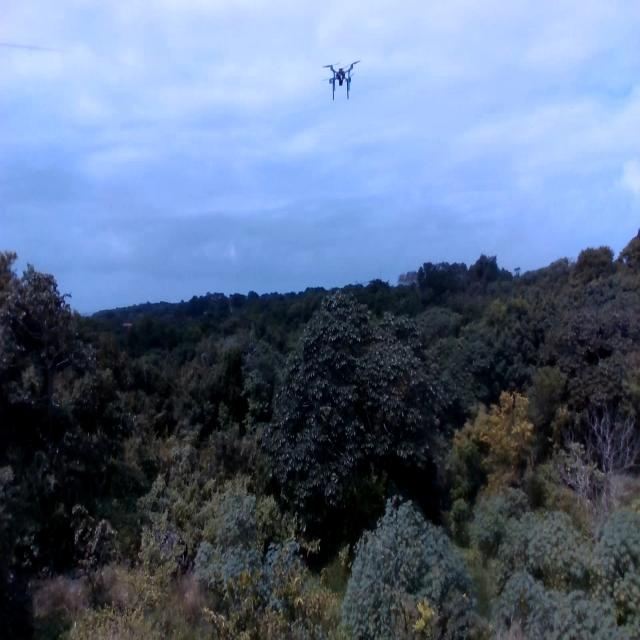-uav-: (313, 50, 367, 110)
